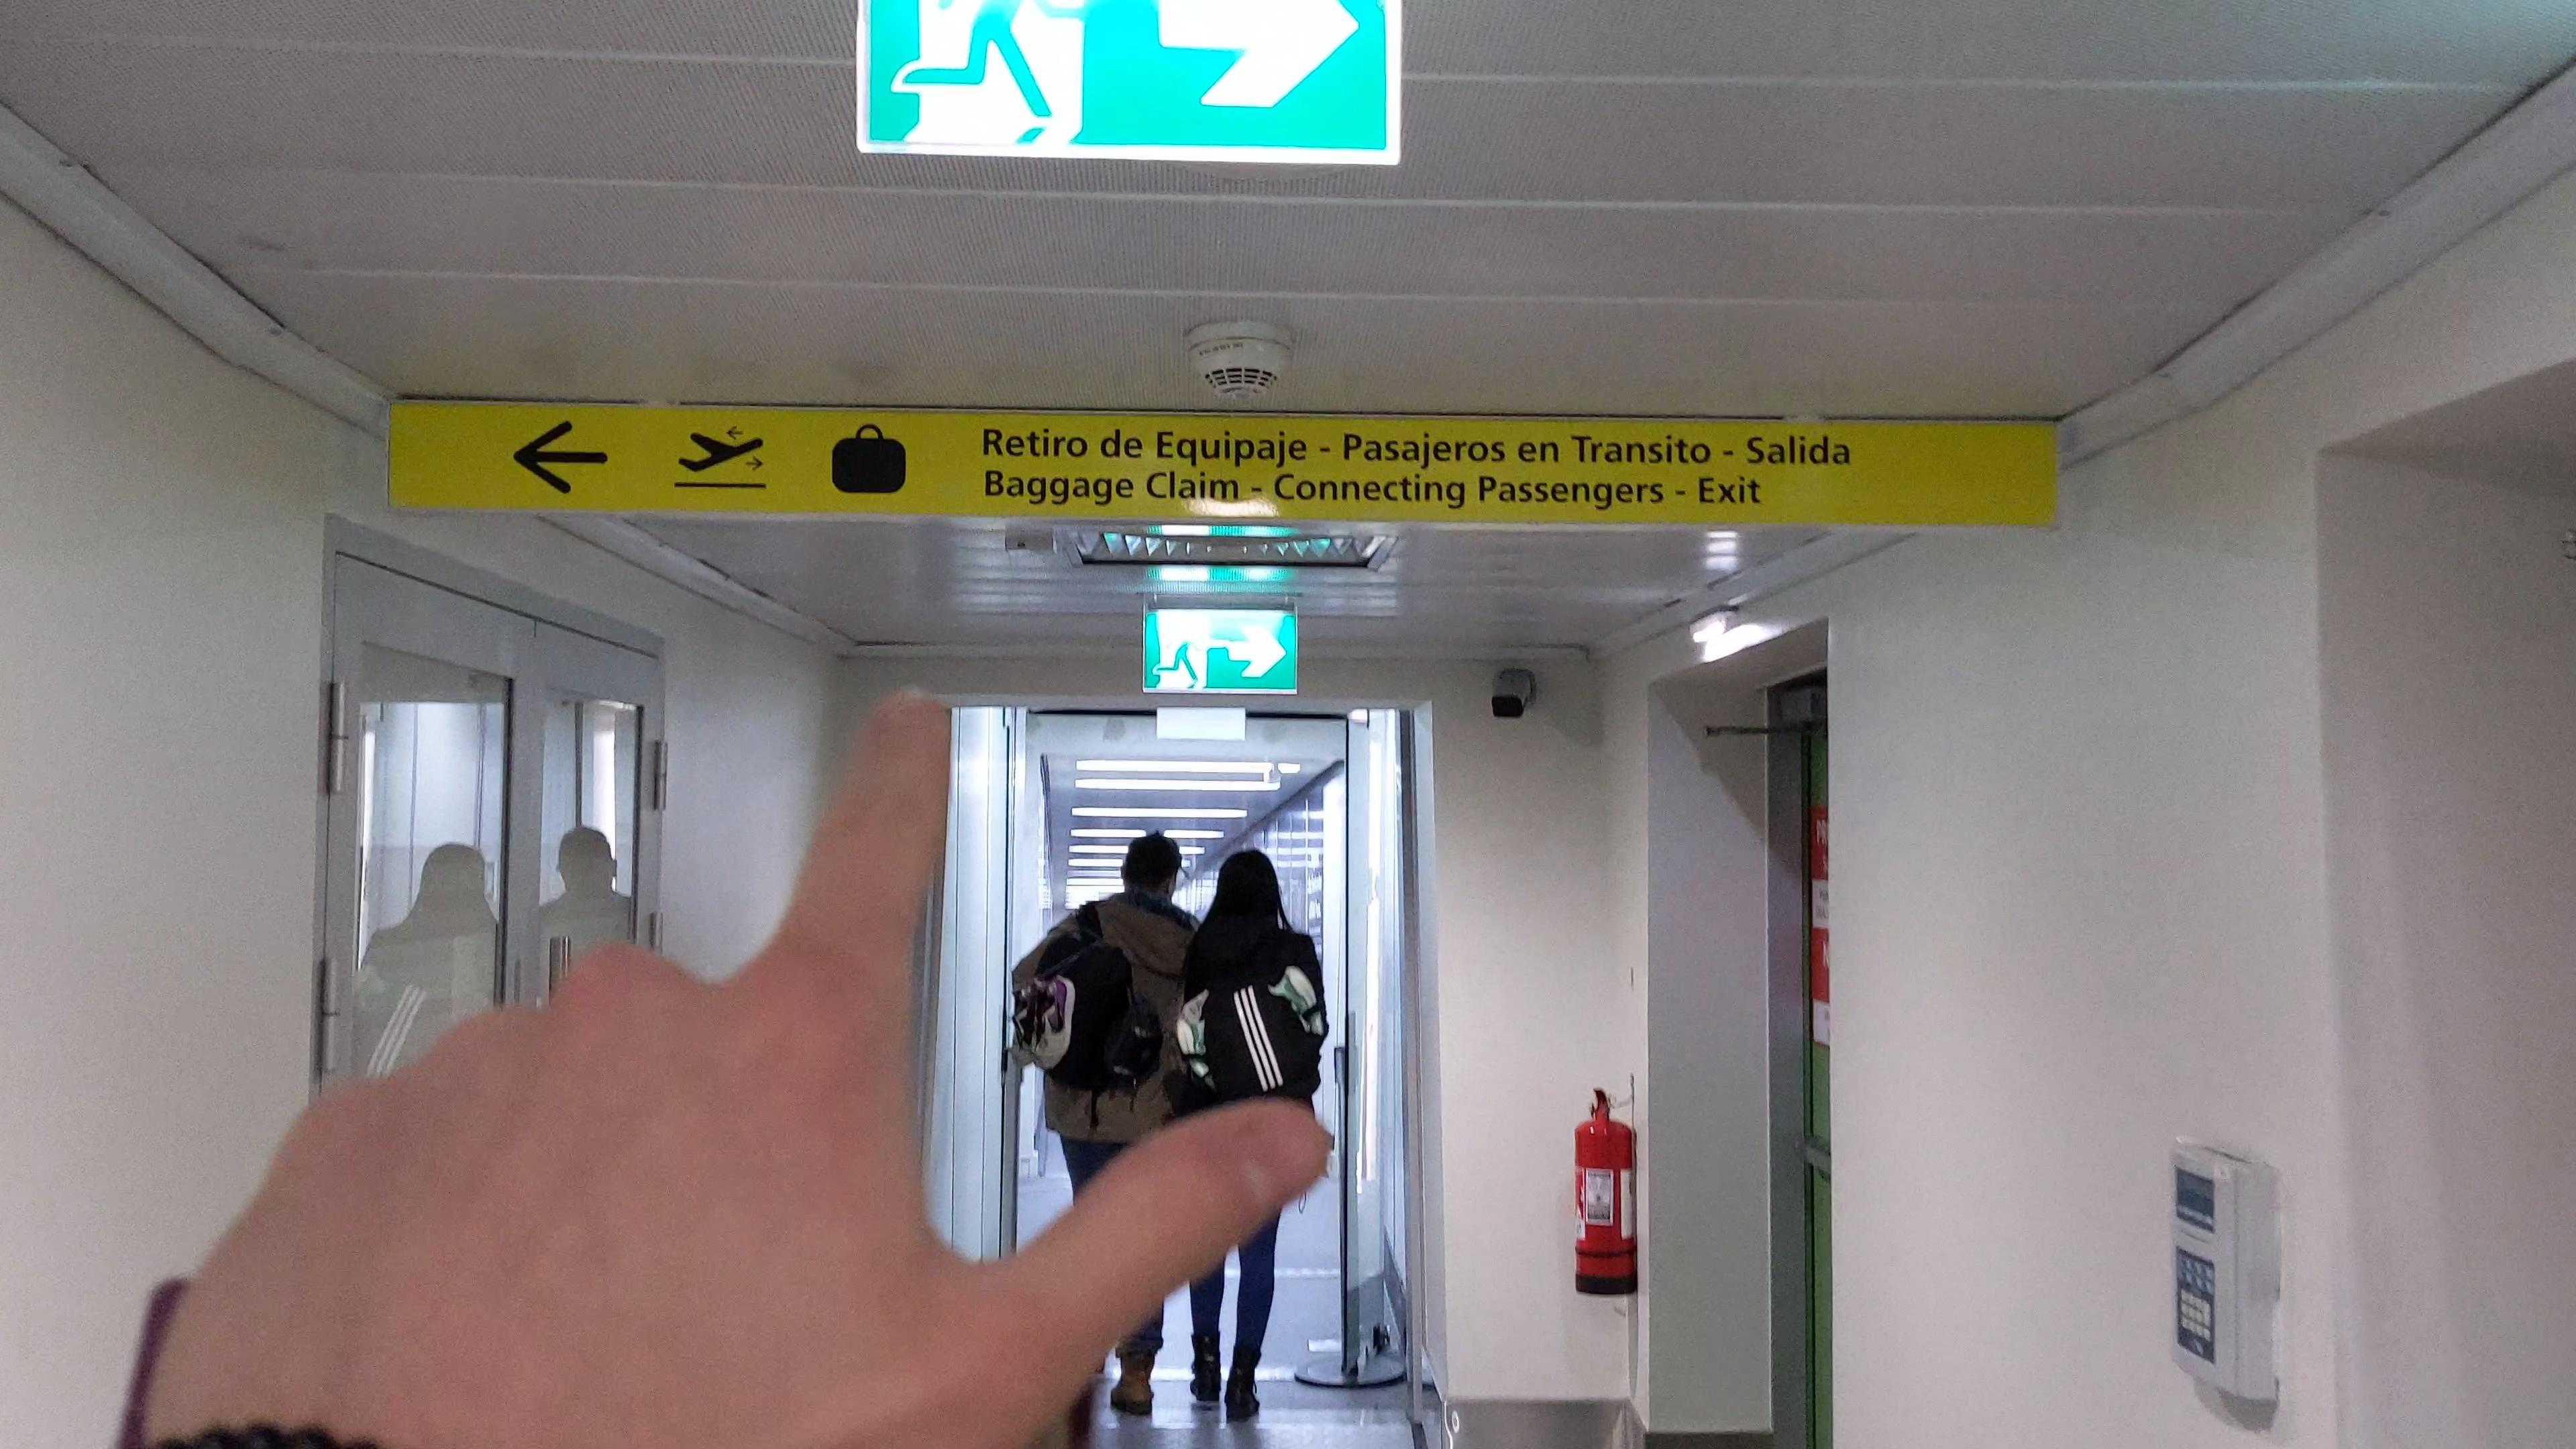airplane symbol: (674, 421, 770, 479)
baggage claim: (828, 419, 913, 497)
emergency exit: (1152, 612, 1208, 694)
emergency right arrow: (1152, 0, 1362, 115), (1228, 623, 1288, 681)
fire-extinguisher: (1568, 1079, 1649, 1300)
thin left arrow: (506, 414, 614, 499)
